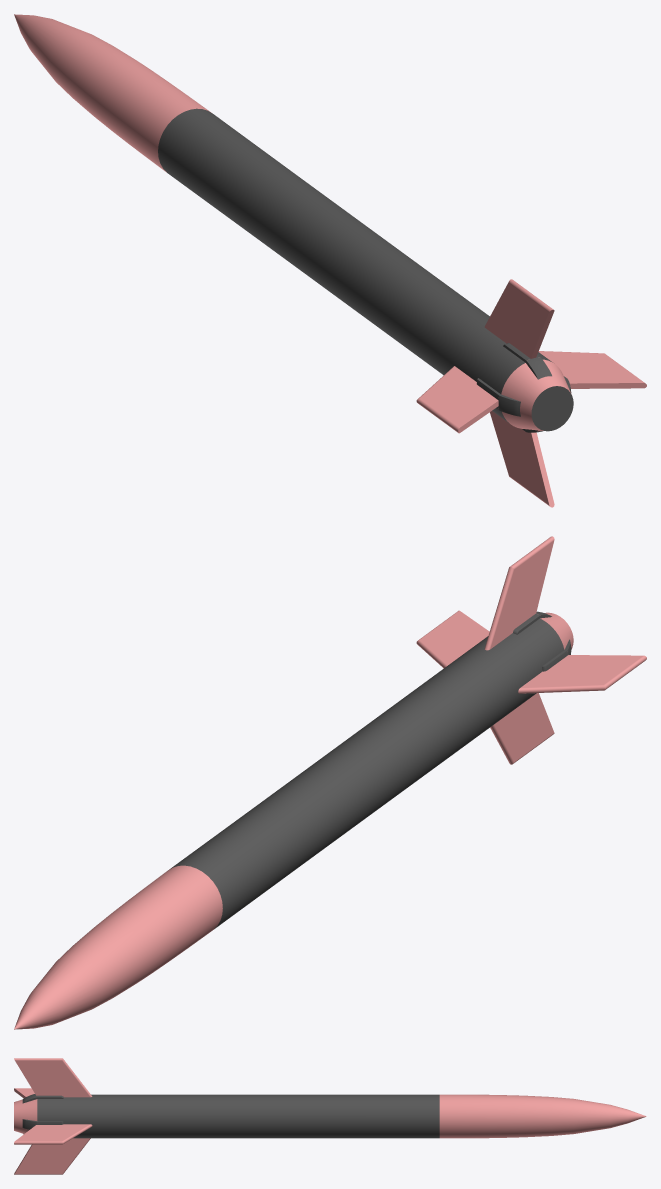
File: Missile.fbx
The picture shows the model from 3 angles, top to bottom: view 1: azimuth 30°, elevation 25°; view 2: azimuth 150°, elevation 25°; view 3: azimuth 270°, elevation 25°; orthographic projection. The views are drawn at different scales.
Visible parts, largest first — view 1: Missile; view 2: Missile; view 3: Missile.
Boxes of the visible parts, x1,y1,x2,y2 form: Missile: (14, 14, 646, 507); Missile: (14, 536, 646, 1029); Missile: (14, 1058, 646, 1174).
Bounding box in the file's own units: 39.85 × 39.85 × 197.
